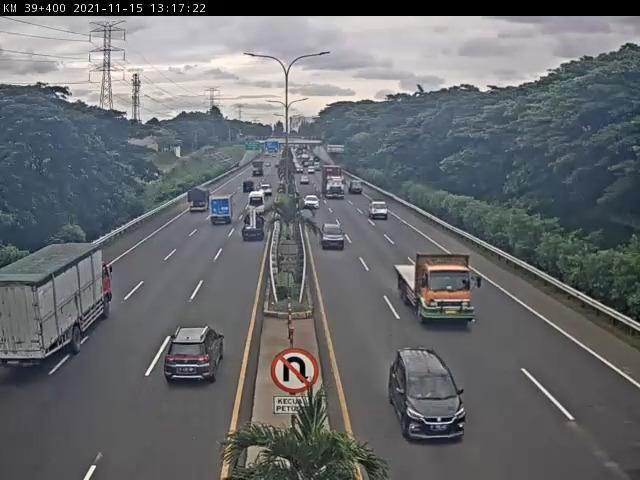bus: (247, 191, 268, 216)
car: (389, 347, 469, 443), (165, 325, 227, 386), (321, 223, 347, 252), (303, 192, 323, 212)
truck: (1, 240, 113, 368), (395, 254, 480, 328), (320, 164, 347, 202), (242, 209, 269, 243), (208, 195, 234, 229), (189, 186, 214, 216), (371, 201, 392, 222), (347, 179, 368, 196)
